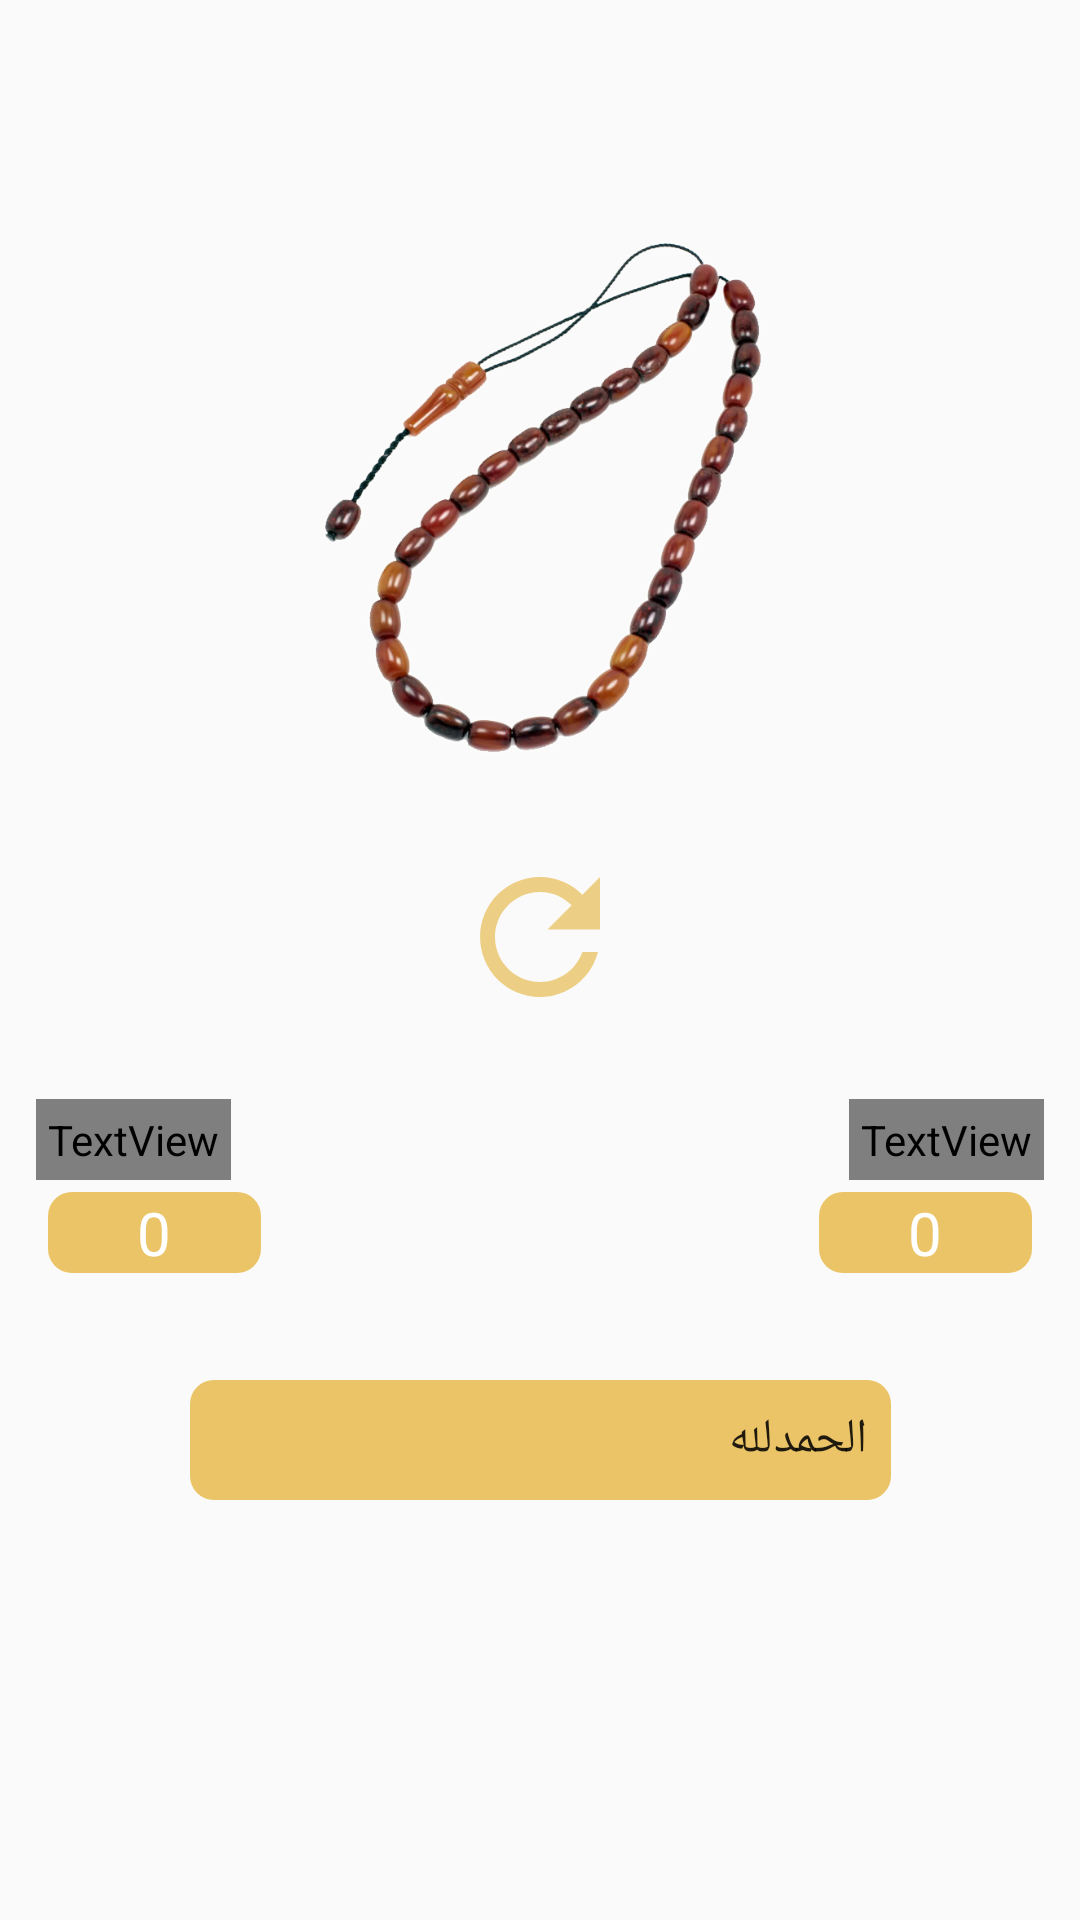

Named icons in this screenshot (1080*1920) and their centers, point (x, y):
reset: point (540, 937)
